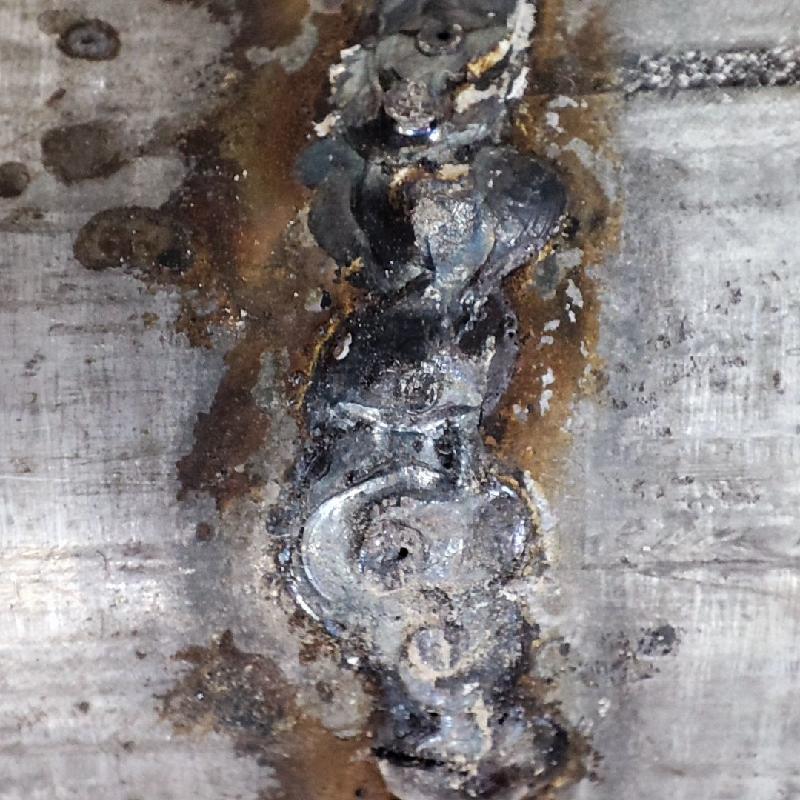Not_fully_soldered: (298, 444, 553, 796)
Surface_pores: (369, 515, 437, 588)
